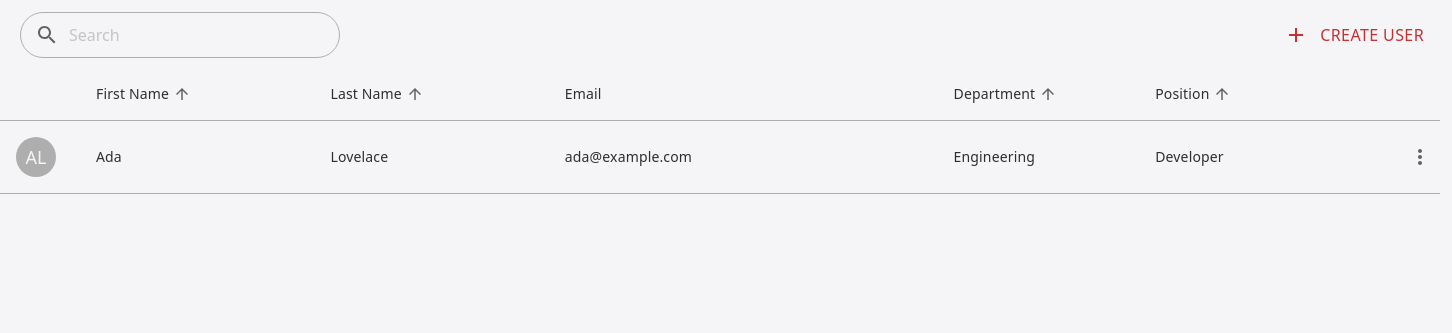
employees page › keeps admin actions in one keyboard-accessible menu
The width and height of the screenshot is (1452, 333).
Click the button named "Actions for Ada Lovelace" at (1420, 156), box [1400, 136, 1440, 176]
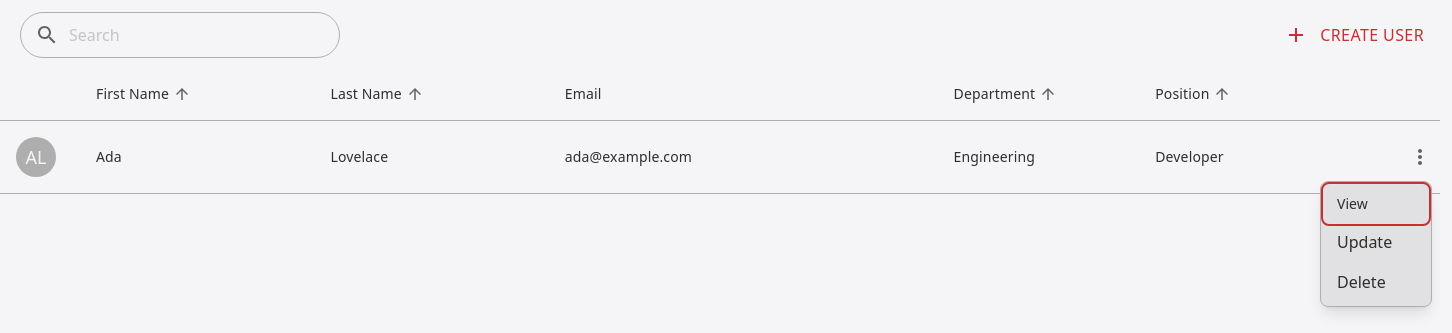
Expected: the menu item "Update" is shown, [1325, 222, 1427, 262]
Expected: the menu item "Delete" is shown, [1325, 262, 1427, 302]
Press Escape
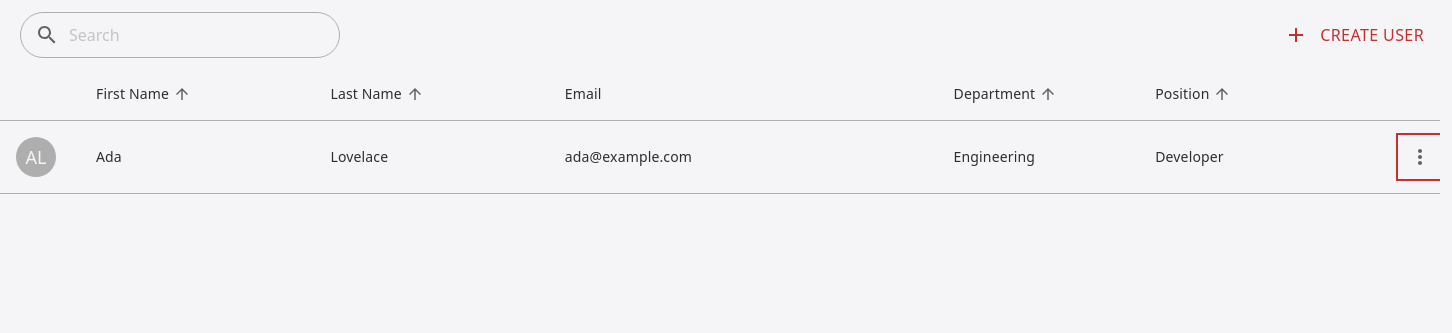
Expected: the menu is gone
